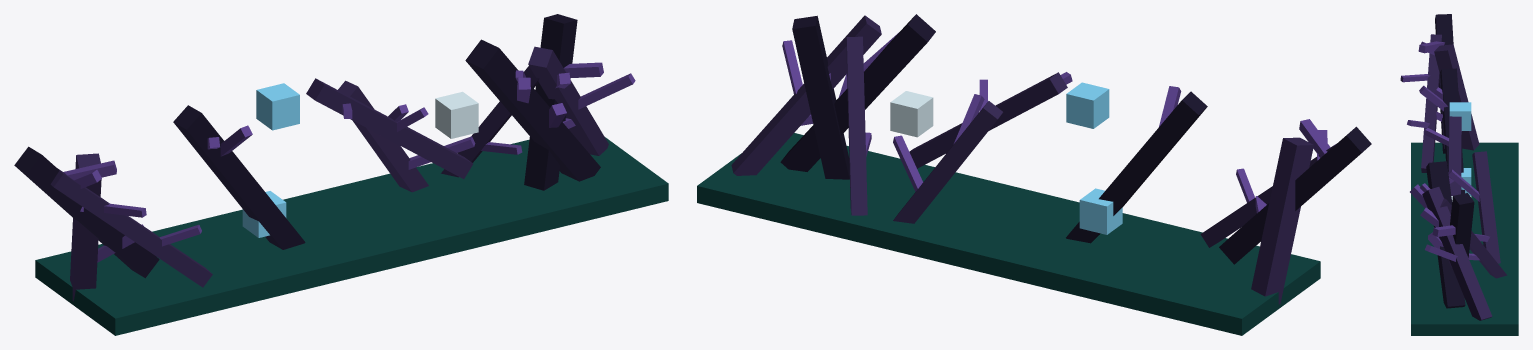
The model's file is thorn_wall_s1.glb.
3 renders of one model, left to right at view 1: azimuth 30°, elevation 25°; view 2: azimuth 150°, elevation 25°; view 3: azimuth 270°, elevation 25°, orthographic. The views are drawn at different scales.
Parts seen in each view (by area): view 1: thorn_wall_s1; view 2: thorn_wall_s1; view 3: thorn_wall_s1.
Part boxes in pixels (box(x1,y1,x2,y2)): thorn_wall_s1: box(14, 14, 668, 335); thorn_wall_s1: box(697, 14, 1371, 335); thorn_wall_s1: box(1400, 14, 1518, 335).
Bounding box in the file's own units: 2.26 × 0.6313 × 0.5496.
